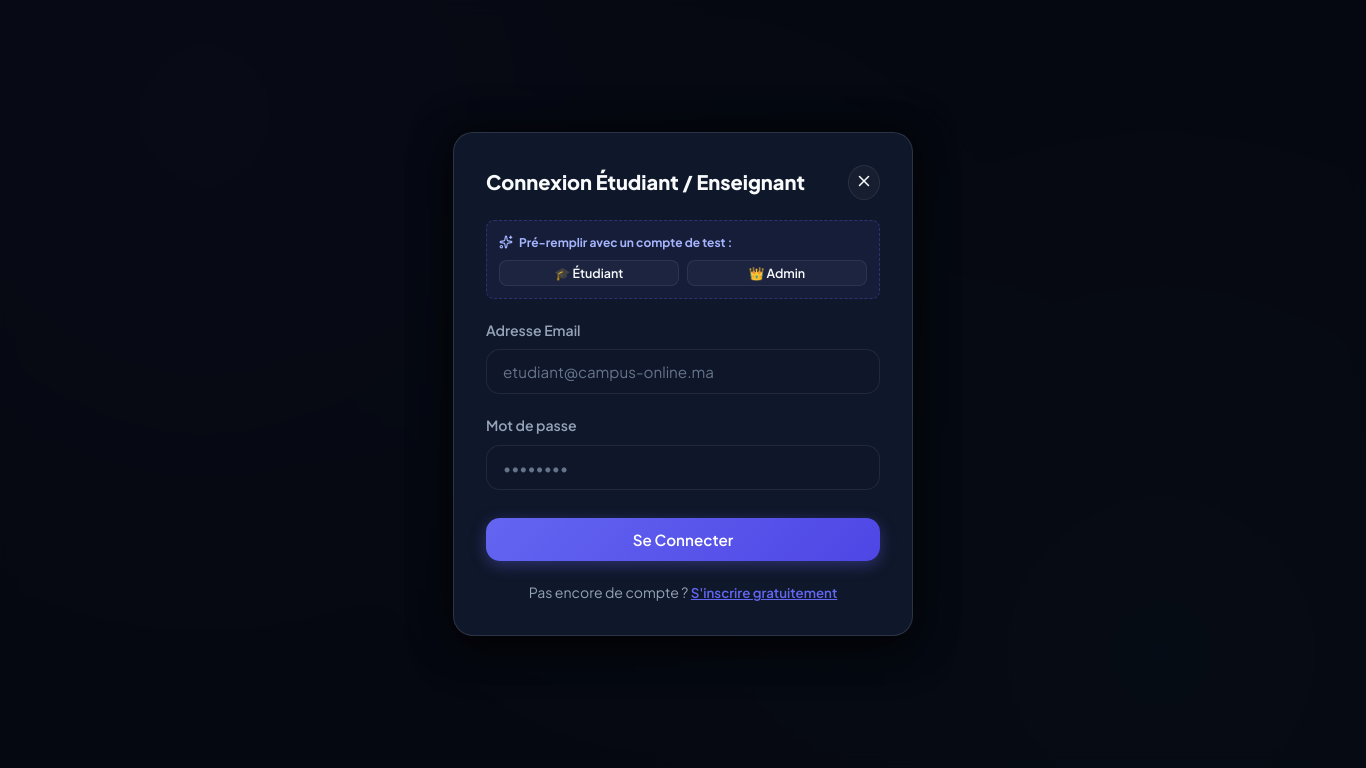
Unit Tests - Component AuthModal › TC-FE-AUTH-06 : Affiche un message d'erreur si la connexion échoue
This screenshot has width=1366, height=768.
Click the button "🎓 Étudiant": (589, 273) [499,260,679,286]
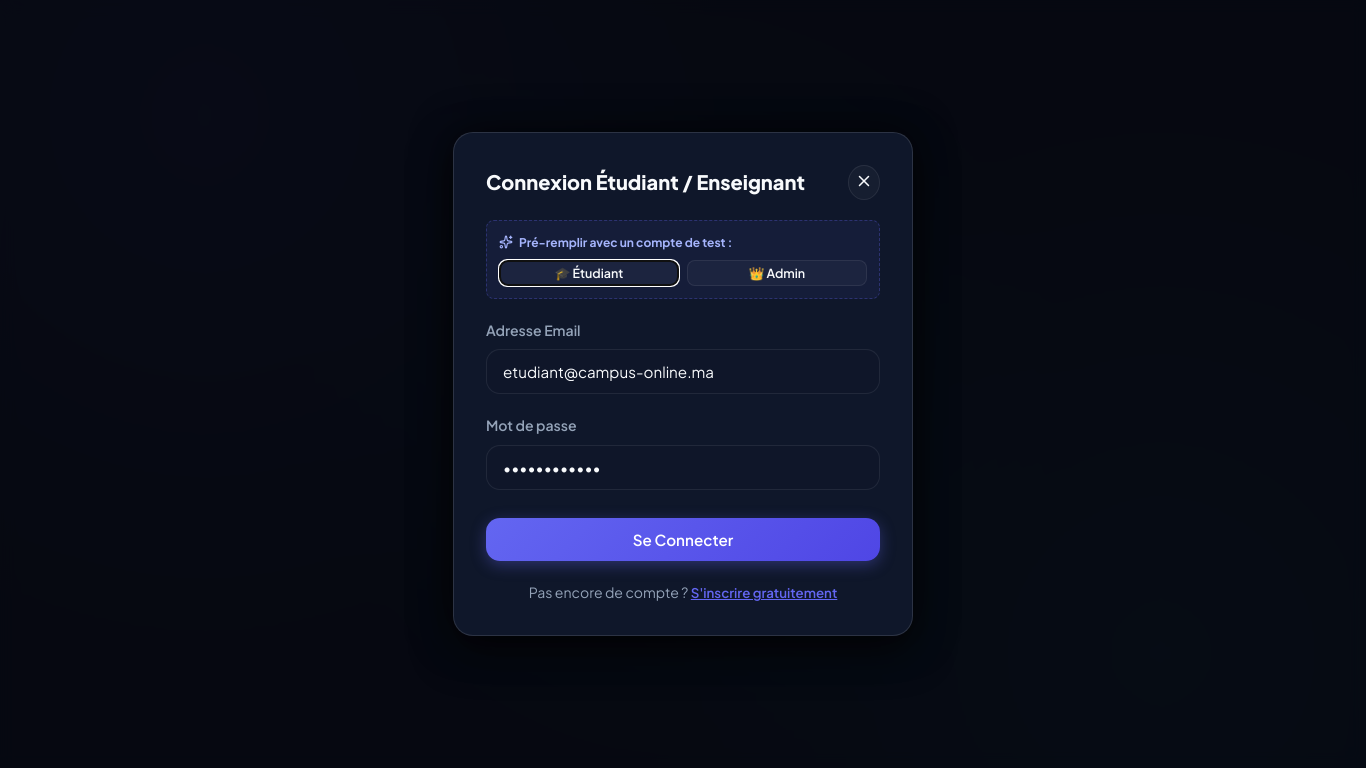
Click the button "Se Connecter": (683, 539) [486,518,880,561]
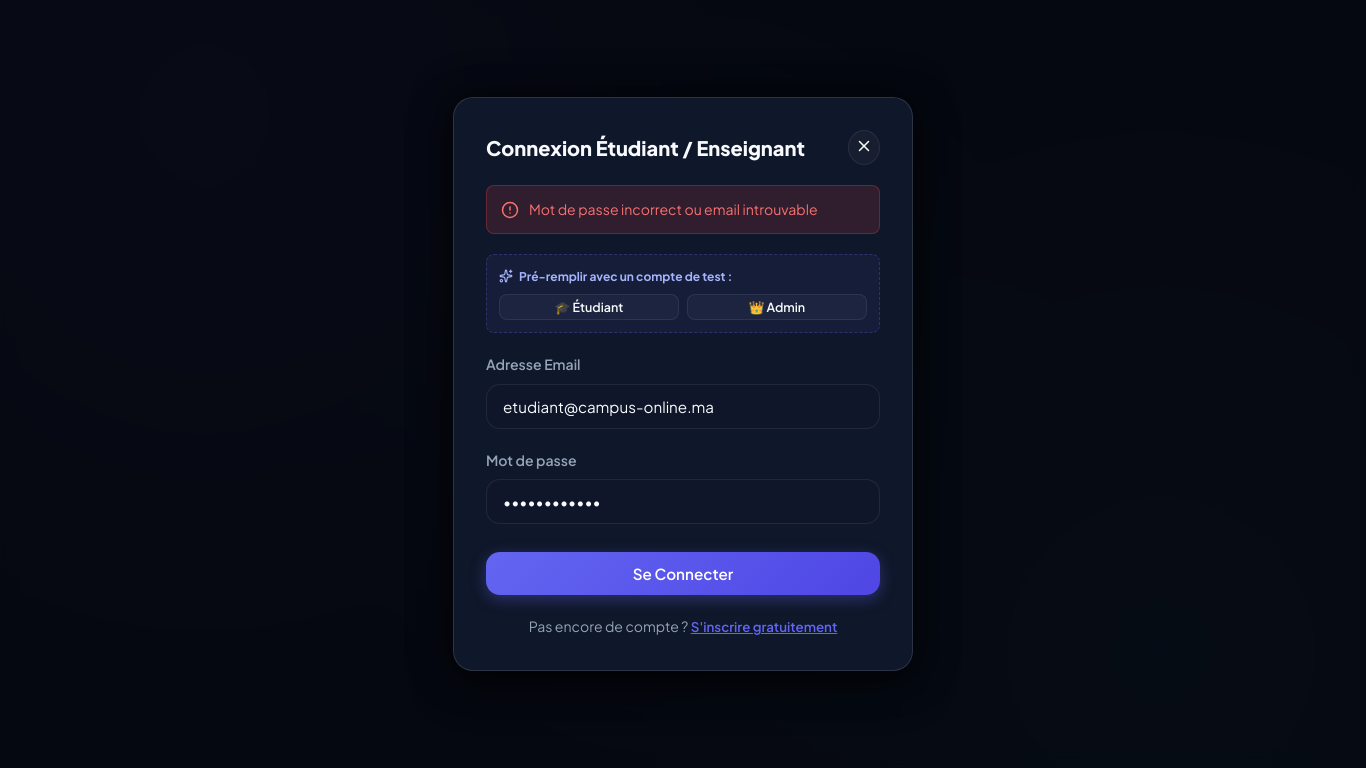
Expected: the text "Mot de passe incorrect ou email introuvable" is shown, [529,198,818,221]
